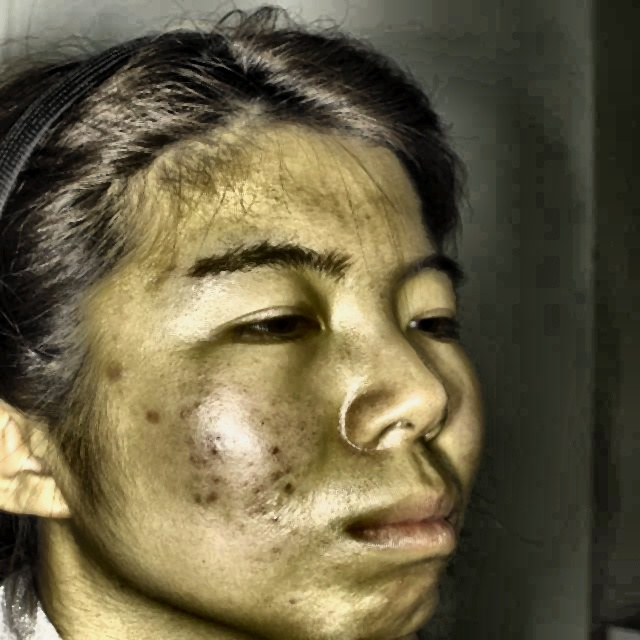comedone: (78, 353, 138, 401), (171, 479, 221, 523), (139, 398, 172, 442)
